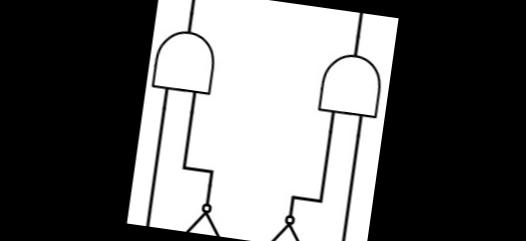and: (148, 22, 224, 99), (314, 44, 390, 120)
not: (168, 196, 238, 238), (252, 207, 324, 241)
